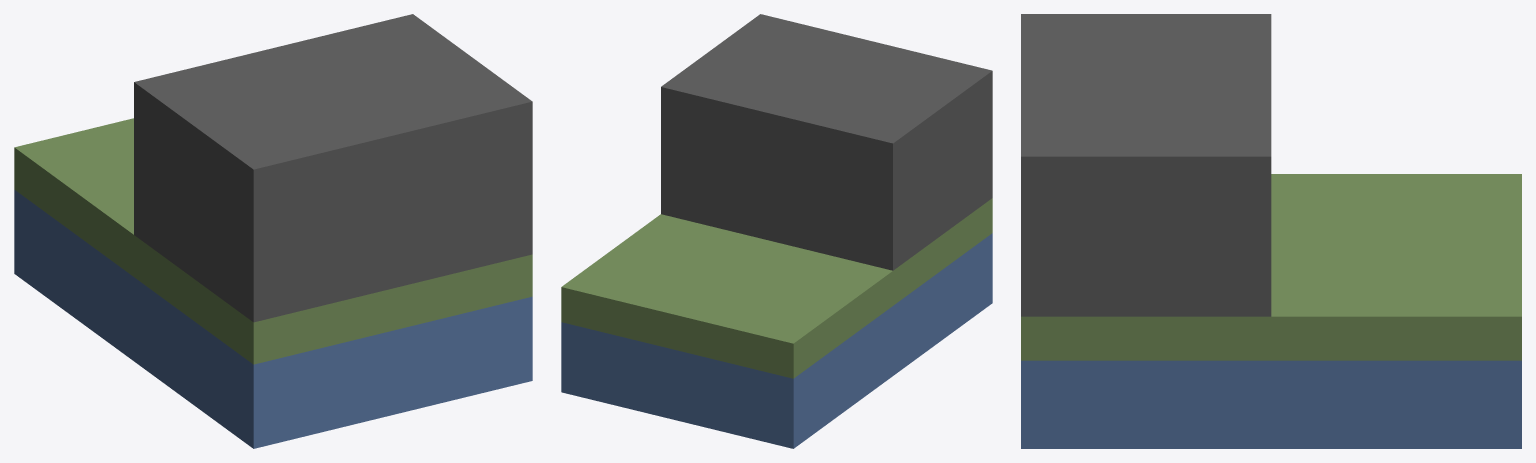
Rendered from quad_32.glb.
3 views of the same model, side by side, from view 1: azimuth 30°, elevation 25°; view 2: azimuth 150°, elevation 25°; view 3: azimuth 270°, elevation 25° (orthographic). The views are drawn at different scales.
Visible parts, largest first — view 1: quad_32; view 2: quad_32; view 3: quad_32.
Part boxes in pixels (<box>): quad_32: <box>14,14,532,448</box>; quad_32: <box>561,14,992,448</box>; quad_32: <box>1021,14,1521,448</box>.
Size of the model in its own units: 0.577 by 0.5521 by 0.8571.
